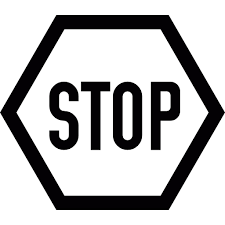SS: (0, 15, 225, 210)
